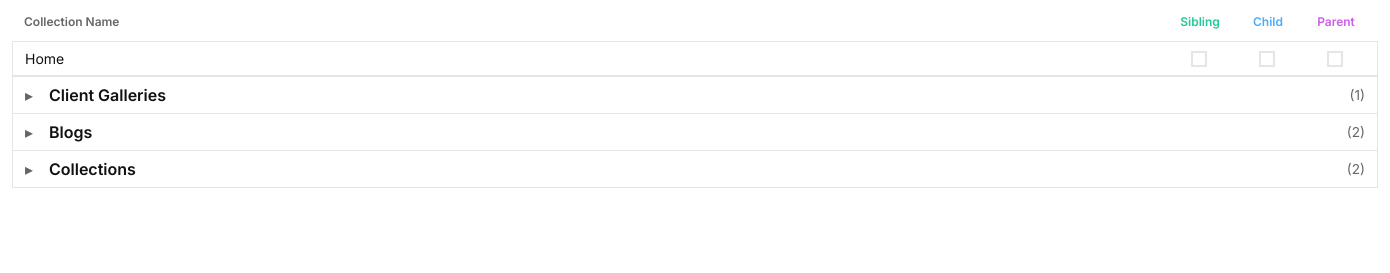
three-column accordion mode › expand-collapse accordion: opening Blogs closes Collections
Click the button "▸ Collections (2)" at [92, 169], box [13,150,1377,187]
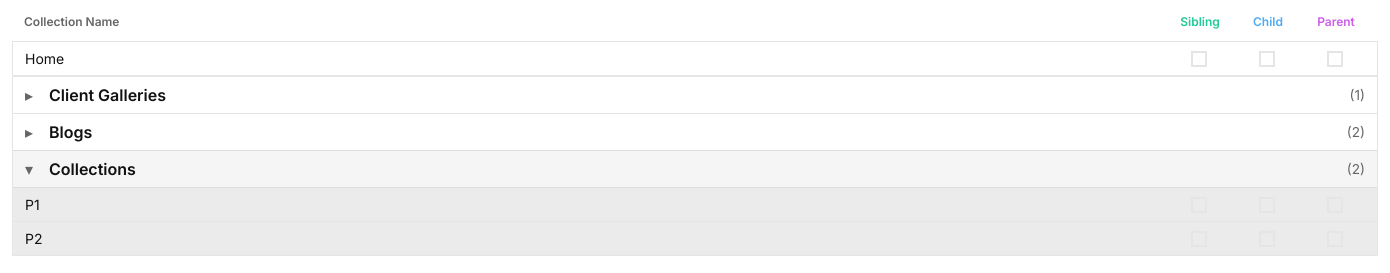
Now the text "P1" is shown, box [25,196,40,213]
Now the text "P2" is shown, box [25,230,42,247]
Click the button "▸ Blogs (2)" at [71, 132], box [13,113,1377,150]
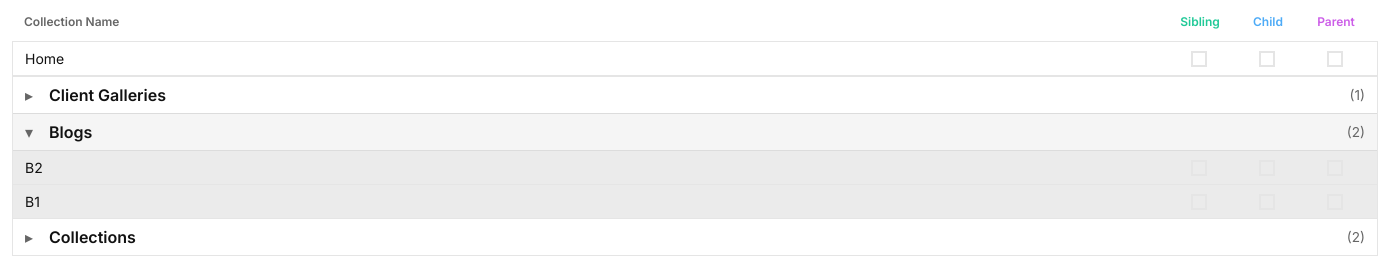
Now the text "P1" is gone
Now the text "B1" is shown, box [25,193,40,210]
Now the text "B2" is shown, box [25,159,43,176]
